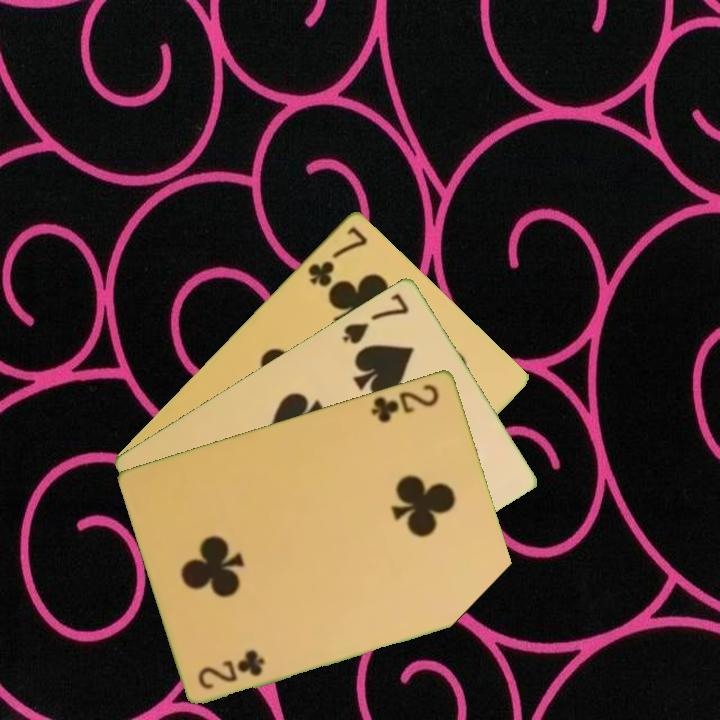2c: (367, 380, 443, 425), (194, 647, 268, 692)
7c: (304, 222, 370, 290)
7s: (339, 289, 412, 347)
